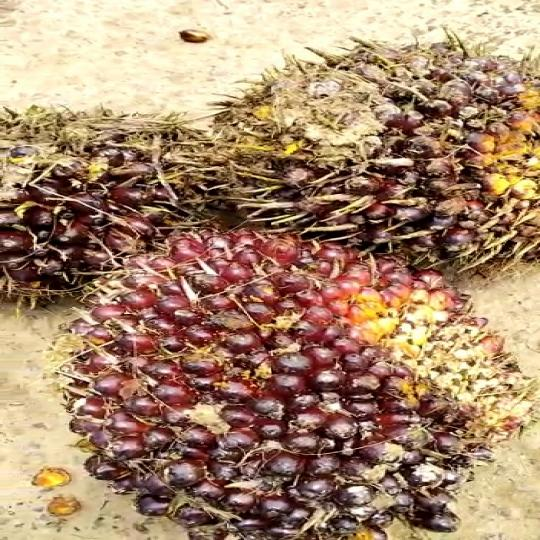kurang masak: (78, 234, 540, 540), (185, 24, 540, 272), (0, 88, 189, 308)
